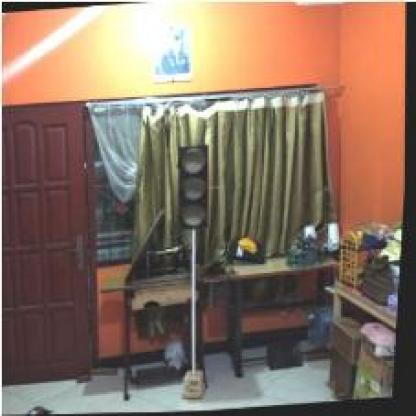yellow: (175, 142, 214, 228)
